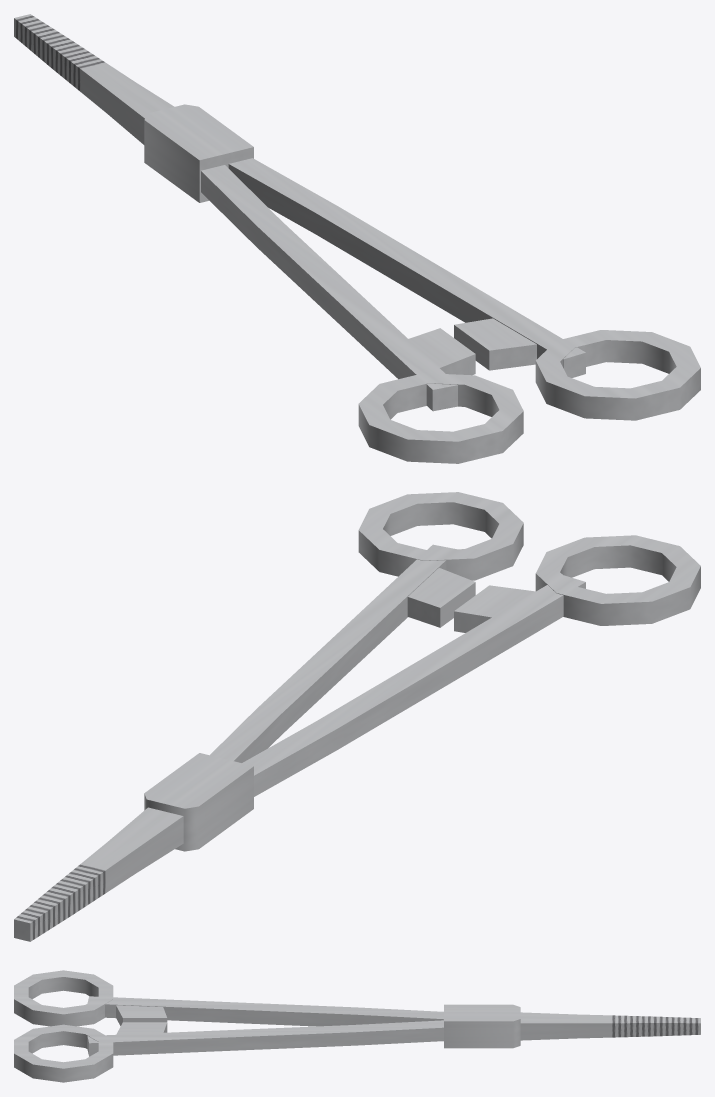
Rendered from s6_kelly_clamp.glb.
The picture shows the model from 3 angles, top to bottom: view 1: azimuth 30°, elevation 25°; view 2: azimuth 150°, elevation 25°; view 3: azimuth 270°, elevation 25°; orthographic projection. The views are drawn at different scales.
Parts seen in each view (by area): view 1: s6_kelly_clamp; view 2: s6_kelly_clamp; view 3: s6_kelly_clamp.
Boxes of the visible parts, x1=… form: s6_kelly_clamp: x1=14, y1=14, x2=700, y2=463; s6_kelly_clamp: x1=14, y1=492, x2=700, y2=941; s6_kelly_clamp: x1=14, y1=970, x2=700, y2=1082.
Bounding box in the file's own units: 0.0471 × 0.006 × 0.139.
Materials: 1 (1 with a texture image).
